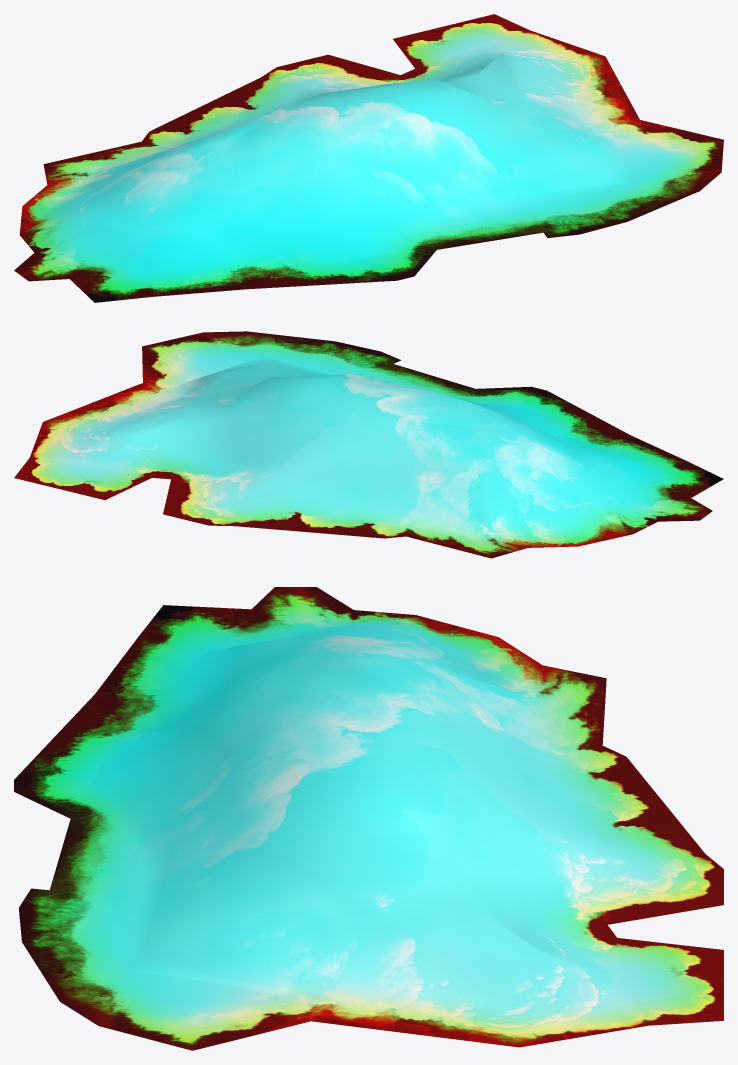
Rendered from Mesh_QuantumMetaCloud_11.FBX.
3 views of the same model, one above another, from view 1: azimuth 30°, elevation 25°; view 2: azimuth 150°, elevation 25°; view 3: azimuth 270°, elevation 25° (orthographic). The views are drawn at different scales.
Parts seen in each view (by area): view 1: Mesh_QuantumMetaCloud_11; view 2: Mesh_QuantumMetaCloud_11; view 3: Mesh_QuantumMetaCloud_11.
Boxes of the visible parts, box(x1,y1,x2,y2) form: Mesh_QuantumMetaCloud_11: box(14, 14, 723, 302); Mesh_QuantumMetaCloud_11: box(14, 331, 723, 558); Mesh_QuantumMetaCloud_11: box(14, 587, 723, 1050).
Bounding box in the file's own units: 773 × 500 × 72.86.
